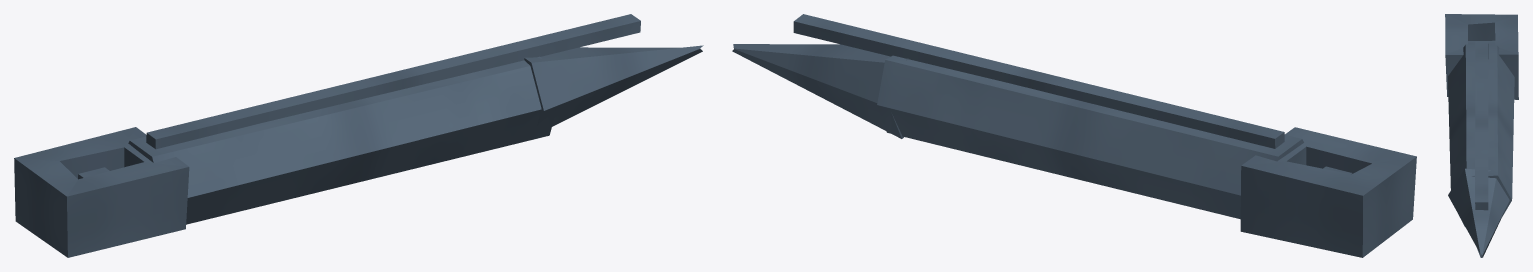
File: needle_rare.glb
The picture shows the model from 3 angles, left to right: view 1: azimuth 30°, elevation 25°; view 2: azimuth 150°, elevation 25°; view 3: azimuth 270°, elevation 25°; orthographic projection. The views are drawn at different scales.
Visible parts, largest first — view 1: NeedleRare; view 2: NeedleRare; view 3: NeedleRare.
Part boxes in pixels (left/top/right/bottom): NeedleRare: left=14, top=14, right=703, bottom=257; NeedleRare: left=732, top=14, right=1416, bottom=257; NeedleRare: left=1445, top=14, right=1518, bottom=257.
Size of the model in its own units: 0.3368 by 0.0416 by 0.0477.
Materials: 1 (1 with a texture image).
